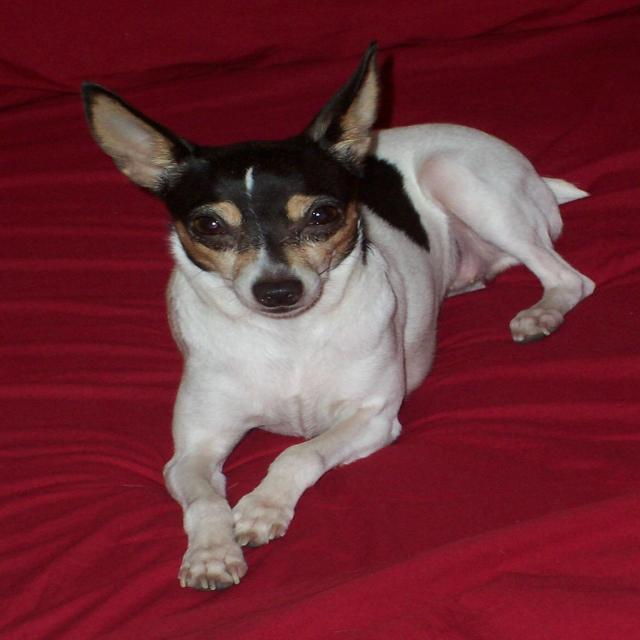toy_terrier: (54, 36, 590, 594)
